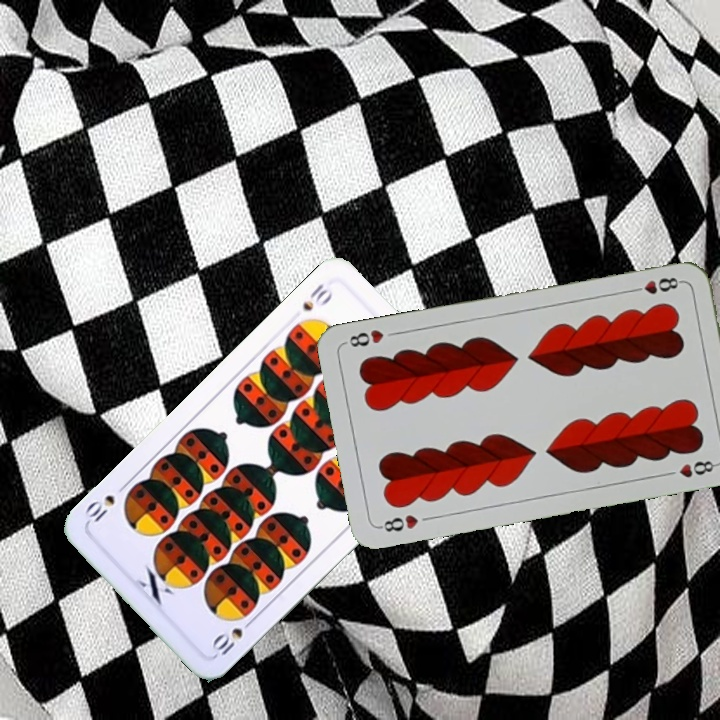H8: (626, 273, 685, 297), (375, 510, 421, 535)
S10: (208, 614, 258, 659), (298, 279, 335, 314)
